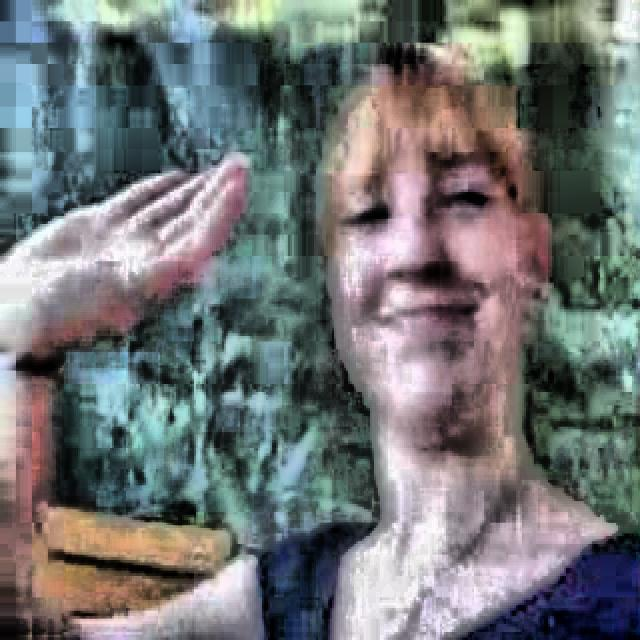T: (7, 47, 638, 635)
